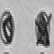correct: (0, 6, 16, 49)
not correct: (32, 8, 53, 53)
